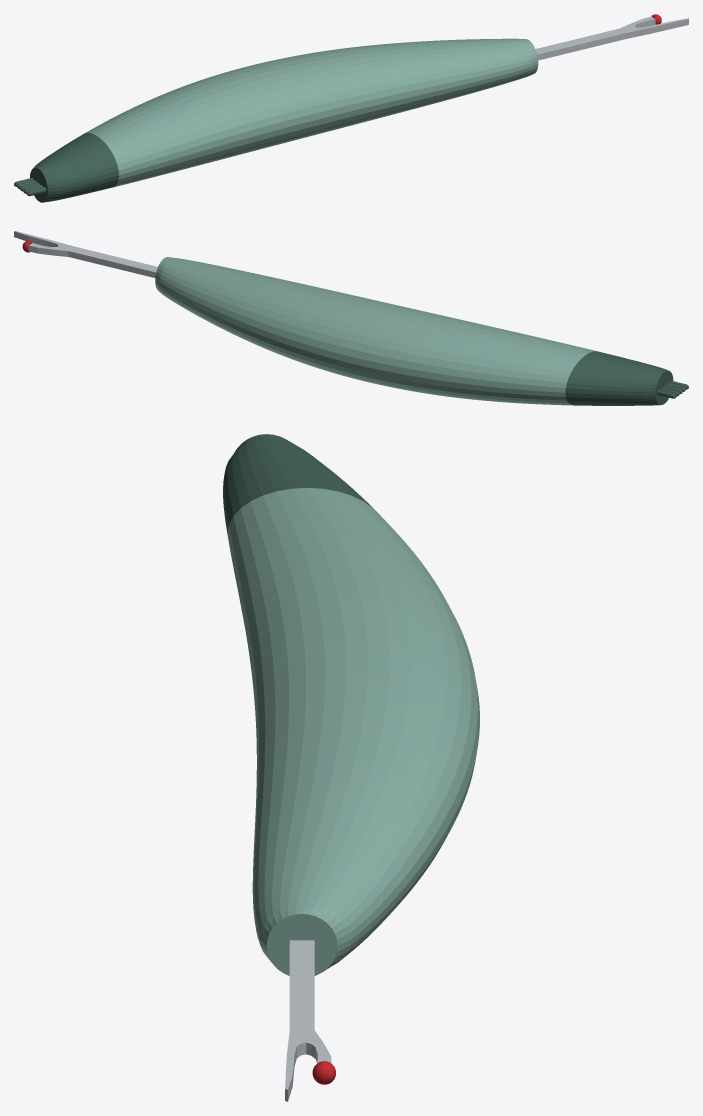
The picture shows the model from 3 angles, top to bottom: view 1: azimuth 30°, elevation 25°; view 2: azimuth 150°, elevation 25°; view 3: azimuth 270°, elevation 25°; orthographic projection. The views are drawn at different scales.
Visible parts, largest first — view 1: Ergonomic_handle_with_integral_heel, Continuous_forked_steel_shank; view 2: Ergonomic_handle_with_integral_heel, Continuous_forked_steel_shank; view 3: Ergonomic_handle_with_integral_heel, Continuous_forked_steel_shank.
Boxes of the visible parts, <box> form: Ergonomic_handle_with_integral_heel: <box>14,38,538,202</box>; Continuous_forked_steel_shank: <box>535,16,688,60</box>; Ergonomic_handle_with_integral_heel: <box>155,257,688,405</box>; Continuous_forked_steel_shank: <box>14,231,157,277</box>; Ergonomic_handle_with_integral_heel: <box>223,434,479,975</box>; Continuous_forked_steel_shank: <box>285,940,331,1101</box>.
Bounding box in the file's own units: 0.1295 × 0.012 × 0.0217.
